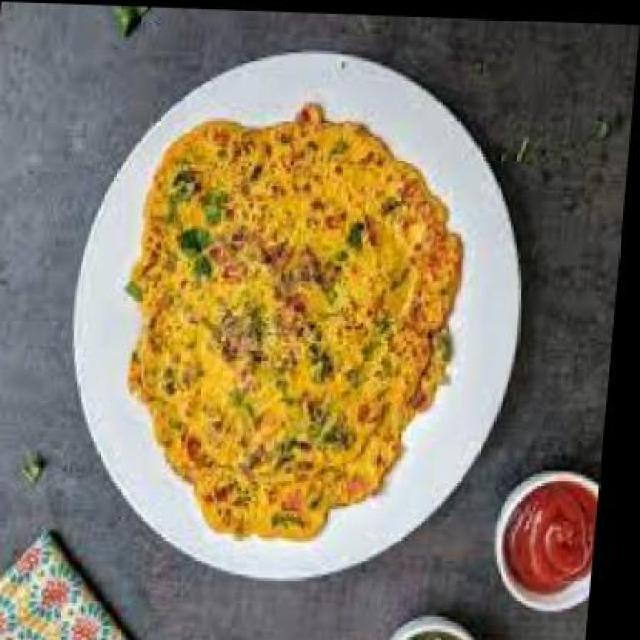besan_cheela: (112, 96, 476, 542)
